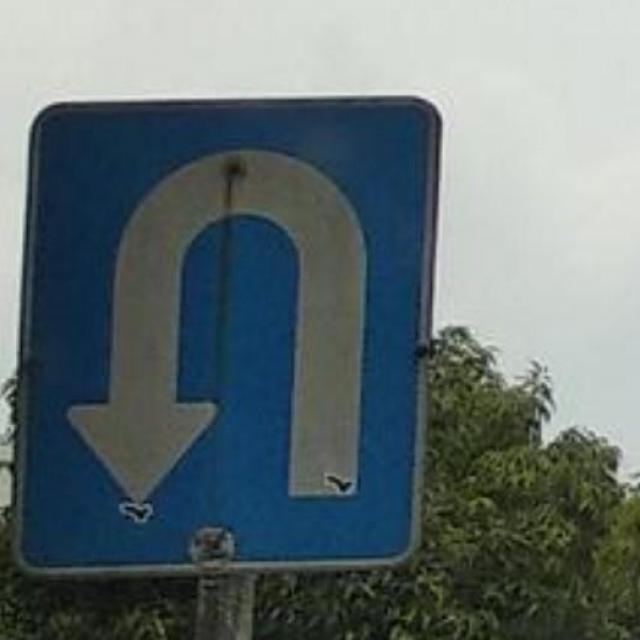U-turn: (33, 100, 426, 563)
